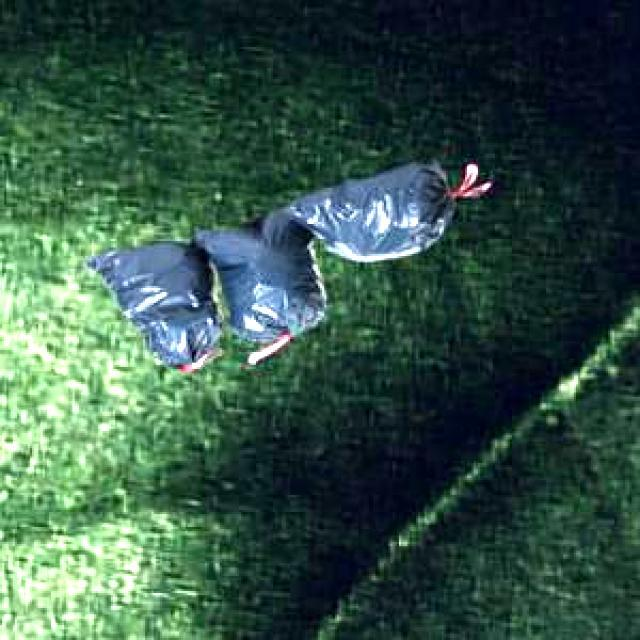Garbage_Bag: (80, 159, 451, 368)
